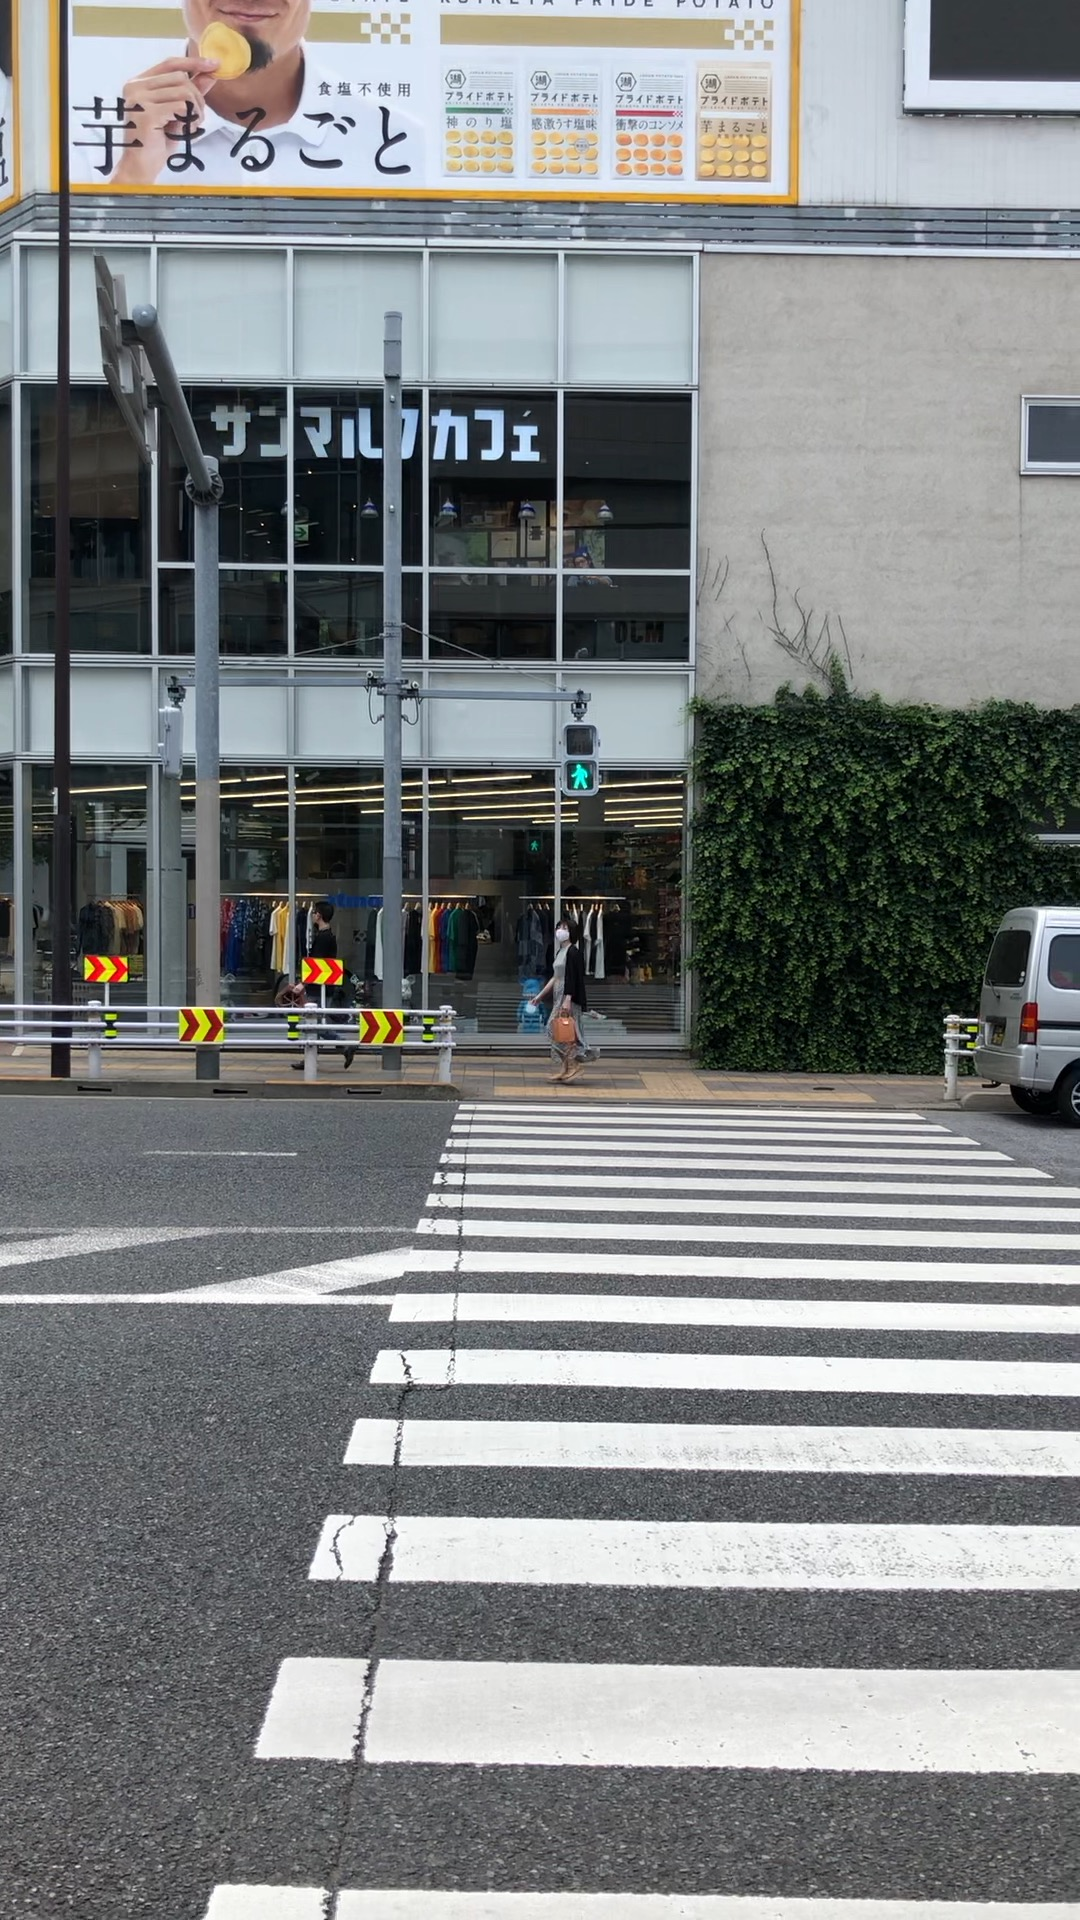green: (559, 721, 599, 796)
